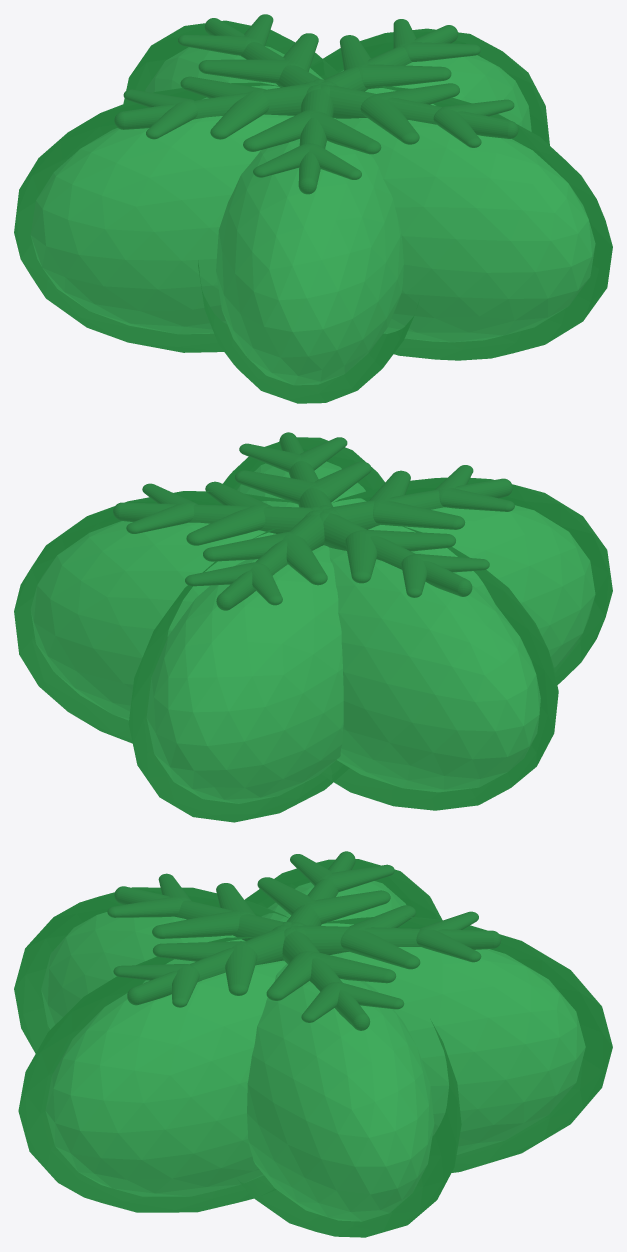
Rendered from bush.glb.
3 views of the same model, one above another, from view 1: azimuth 30°, elevation 25°; view 2: azimuth 150°, elevation 25°; view 3: azimuth 270°, elevation 25° (orthographic).
Visible parts, largest first — view 1: Icosphere, Sphere.011, Sphere.021, Sphere.020, Sphere.009, Sphere.010, Sphere.001, Sphere.003, Sphere.012, Sphere.023, Sphere.019, Sphere.018 (+13 smaller); view 2: Icosphere, Sphere.021, Sphere.010, Sphere.001, Sphere.020, Sphere.019, Sphere.008, Sphere.011, Sphere.013, Sphere.002, Sphere.022, Sphere.023 (+13 smaller); view 3: Icosphere, Sphere.011, Sphere.001, Sphere.010, Sphere.020, Sphere.018, Sphere.002, Sphere.022, Sphere.021, Sphere.008, Sphere.009, Sphere.013 (+13 smaller).
Boxes of the visible parts, x1,y1,x2,y2 form: Icosphere: (14, 20, 612, 403); Sphere.011: (304, 81, 518, 138); Sphere.021: (114, 81, 337, 129); Sphere.020: (298, 79, 333, 194); Sphere.009: (354, 64, 451, 88); Sphere.010: (306, 25, 457, 94); Sphere.001: (204, 18, 329, 96); Sphere.003: (198, 59, 289, 83); Sphere.012: (360, 94, 419, 144); Sphere.023: (210, 90, 269, 139); Sphere.019: (243, 110, 319, 151); Sphere.018: (310, 112, 381, 154); Icosphere: (14, 437, 612, 822); Sphere.021: (310, 506, 472, 596); Sphere.010: (113, 502, 340, 533); Sphere.001: (216, 505, 331, 610); Sphere.020: (304, 478, 512, 529); Sphere.019: (373, 500, 465, 529); Sphere.008: (186, 505, 265, 545); Sphere.011: (279, 432, 332, 522); Sphere.013: (234, 470, 316, 503); Sphere.002: (203, 532, 299, 561); Sphere.022: (345, 530, 377, 583); Sphere.023: (364, 530, 455, 551); Icosphere: (14, 859, 612, 1237); Sphere.011: (127, 922, 305, 1005); Sphere.001: (273, 925, 501, 954); Sphere.010: (282, 921, 370, 1030); Sphere.020: (114, 886, 306, 940); Sphere.018: (152, 910, 239, 938); Sphere.002: (340, 927, 420, 969); Sphere.022: (302, 890, 390, 923); Sphere.021: (284, 851, 355, 938); Sphere.008: (309, 952, 396, 983); Sphere.009: (266, 951, 314, 1000); Sphere.013: (225, 944, 257, 995).
Bounding box in the file's own units: 3.05 × 1.43 × 3.13.
